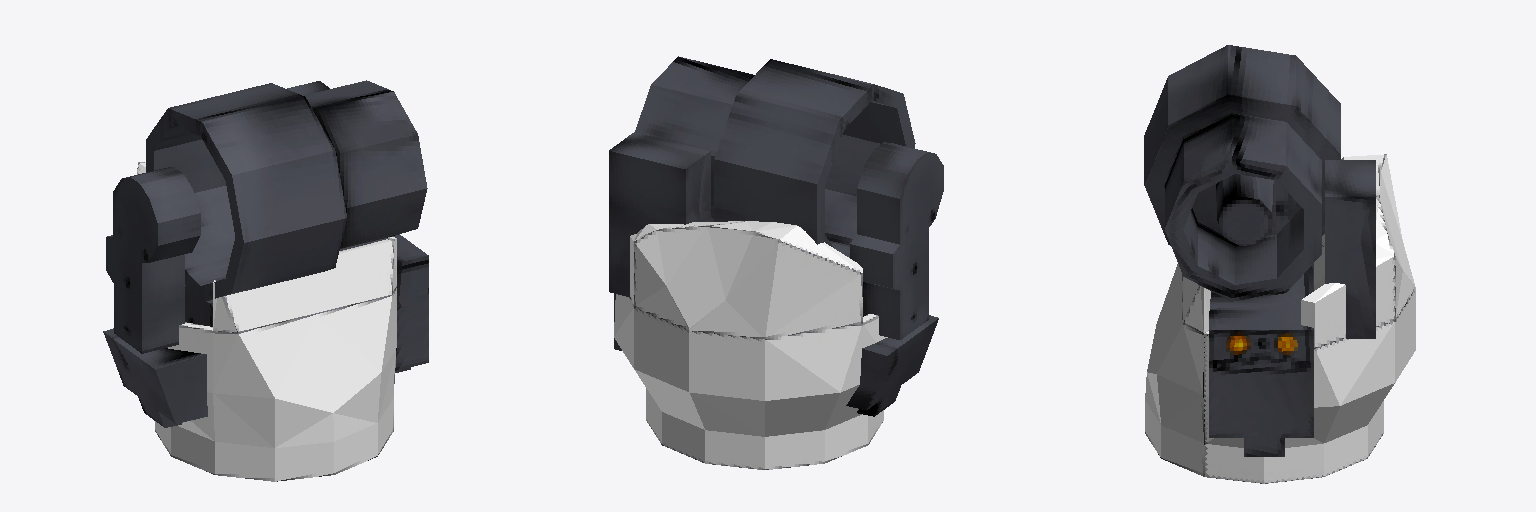
3 views of the same model, side by side, from view 1: azimuth 30°, elevation 25°; view 2: azimuth 150°, elevation 25°; view 3: azimuth 270°, elevation 25° (orthographic).
Visible parts, largest first — view 1: l_uarm; view 2: l_uarm; view 3: l_uarm.
Boxes of the visible parts, <box> form: l_uarm: <box>103,80,428,481</box>; l_uarm: <box>609,56,943,469</box>; l_uarm: <box>1144,45,1415,483</box>.
Size of the model in its own units: 0.1475 by 0.1769 by 0.1261.
1 materials, 1 textured.